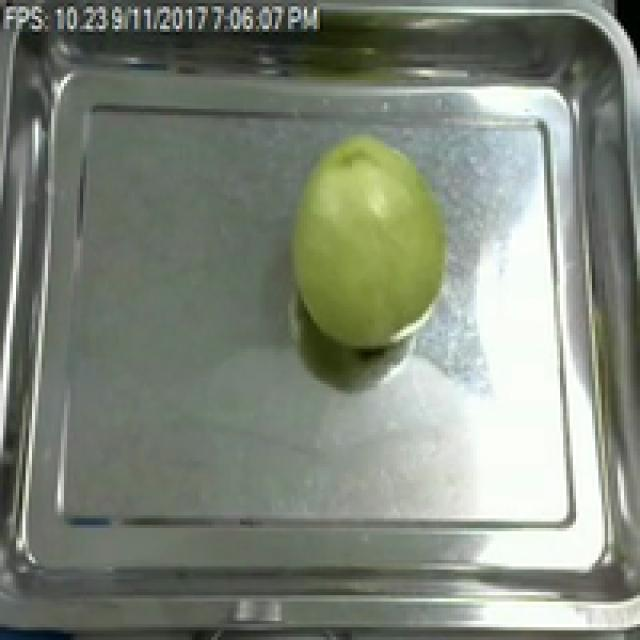Fruit: (278, 122, 458, 358)
